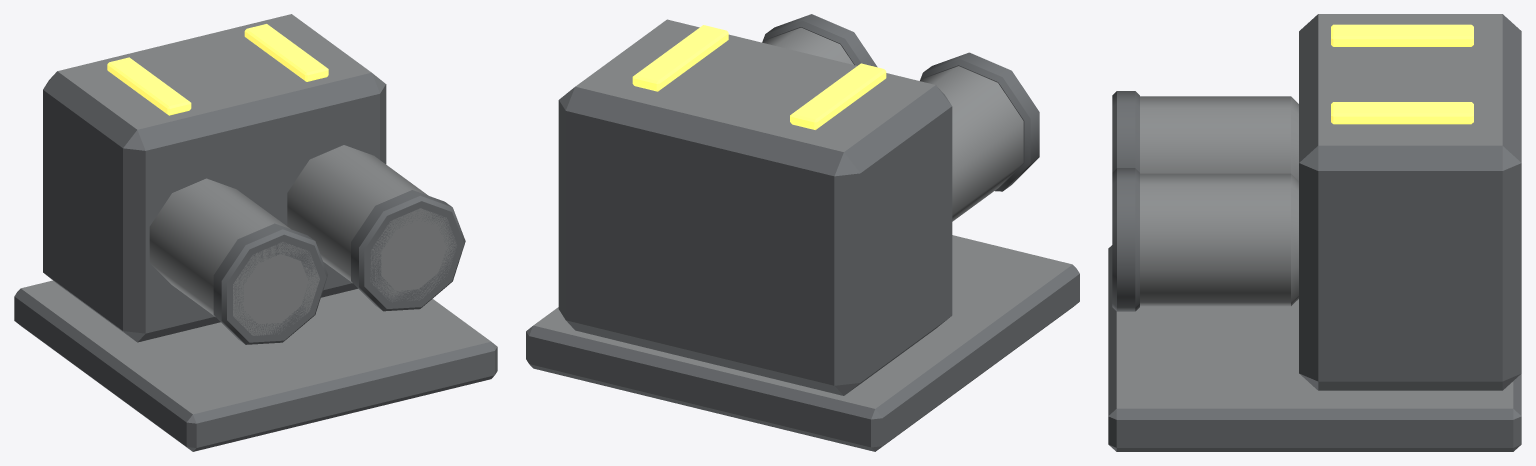
The model's file is R4X_DoubleShotPassive_LOD1.glb.
3 renders of one model, left to right at view 1: azimuth 30°, elevation 25°; view 2: azimuth 150°, elevation 25°; view 3: azimuth 270°, elevation 25°, orthographic. The views are drawn at different scales.
Parts seen in each view (by area): view 1: R4X_DoubleShotPassive_LOD1; view 2: R4X_DoubleShotPassive_LOD1; view 3: R4X_DoubleShotPassive_LOD1.
Boxes of the visible parts, box(x1,y1,x2,y2) form: R4X_DoubleShotPassive_LOD1: box(14, 14, 497, 451); R4X_DoubleShotPassive_LOD1: box(526, 14, 1079, 451); R4X_DoubleShotPassive_LOD1: box(1108, 14, 1521, 451).
Size of the model in its own units: 0.52 by 0.415 by 0.52.
